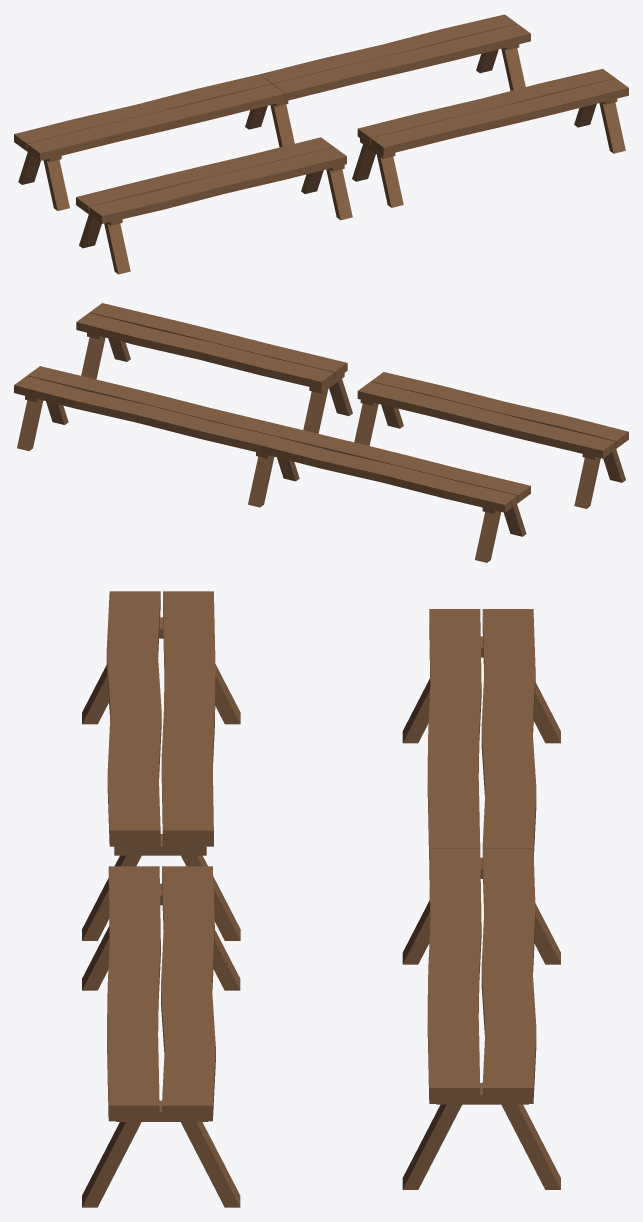
Rendered from venchi.gltf.
3 renders of one model, top to bottom at view 1: azimuth 30°, elevation 25°; view 2: azimuth 150°, elevation 25°; view 3: azimuth 270°, elevation 25°, orthographic. The views are drawn at different scales.
Visible parts, largest first — view 1: cartoon pot table.001, cartoon pot table.002, cartoon pot table; view 2: cartoon pot table.001, cartoon pot table.002, cartoon pot table; view 3: cartoon pot table.001, cartoon pot table.002, cartoon pot table.
Boxes of the visible parts, <box> form: cartoon pot table.001: <box>14,14,530,210</box>; cartoon pot table.002: <box>352,69,628,207</box>; cartoon pot table: <box>76,137,352,274</box>; cartoon pot table.001: <box>14,366,530,562</box>; cartoon pot table.002: <box>76,303,352,433</box>; cartoon pot table: <box>354,372,628,508</box>; cartoon pot table.001: <box>402,609,560,1189</box>; cartoon pot table.002: <box>82,866,240,1207</box>; cartoon pot table: <box>82,591,240,940</box>.
Size of the model in its own units: 9.68 by 0.9787 by 3.81.
